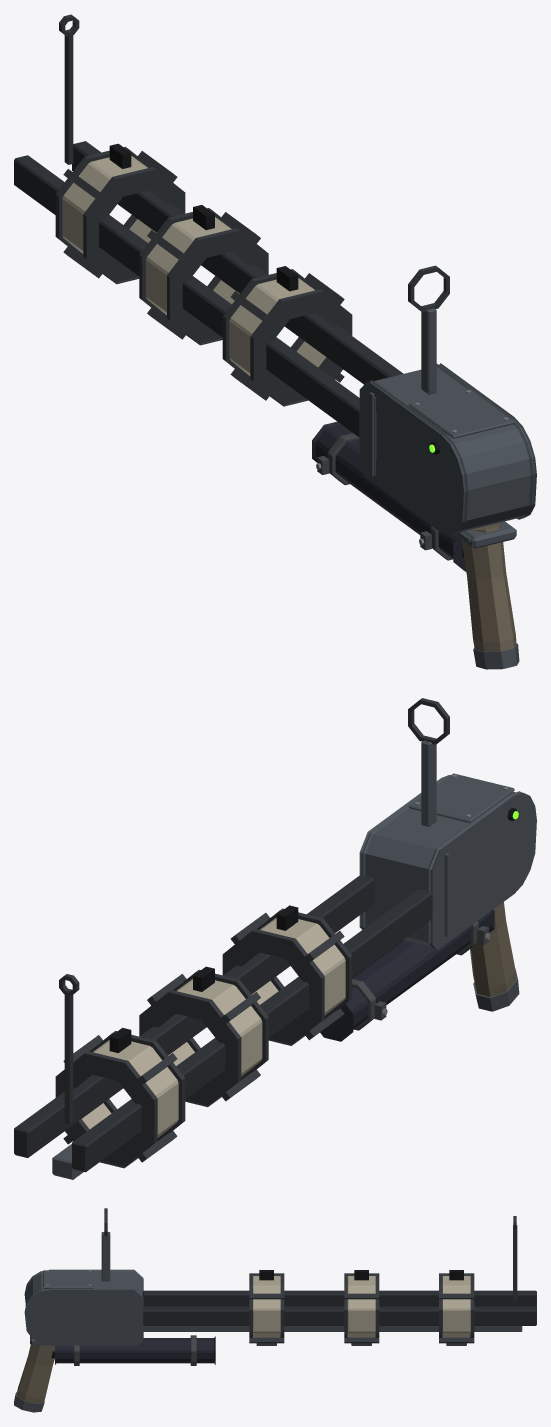
Rendered from driver_b.glb.
3 renders of one model, top to bottom at view 1: azimuth 30°, elevation 25°; view 2: azimuth 150°, elevation 25°; view 3: azimuth 270°, elevation 25°, orthographic. The views are drawn at different scales.
Parts seen in each view (by area): view 1: Body, Coils, Core; view 2: Body, Coils, Core; view 3: Body, Coils, Core.
Boxes of the visible parts, x1,y1,x2,y2 form: Body: (14,14,536,669); Coils: (55,143,352,404); Core: (312,421,466,571); Body: (14,698,536,1179); Coils: (55,905,352,1166); Core: (320,909,494,1041); Body: (14,1208,536,1412); Coils: (249,1270,474,1343); Core: (55,1336,215,1364).
Size of the model in its own units: 0.0887 by 0.3009 by 0.716.
